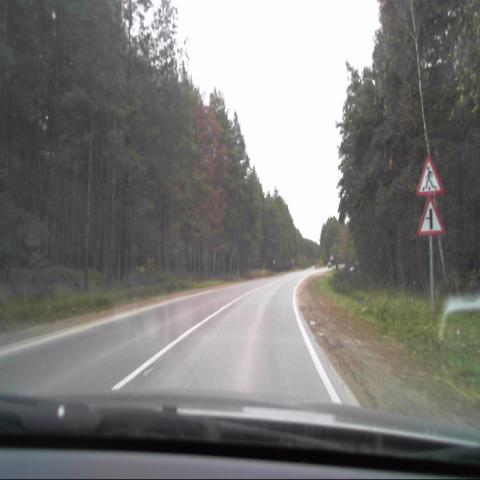1_22: (417, 154, 443, 196)
2_3_3: (418, 195, 444, 236)
